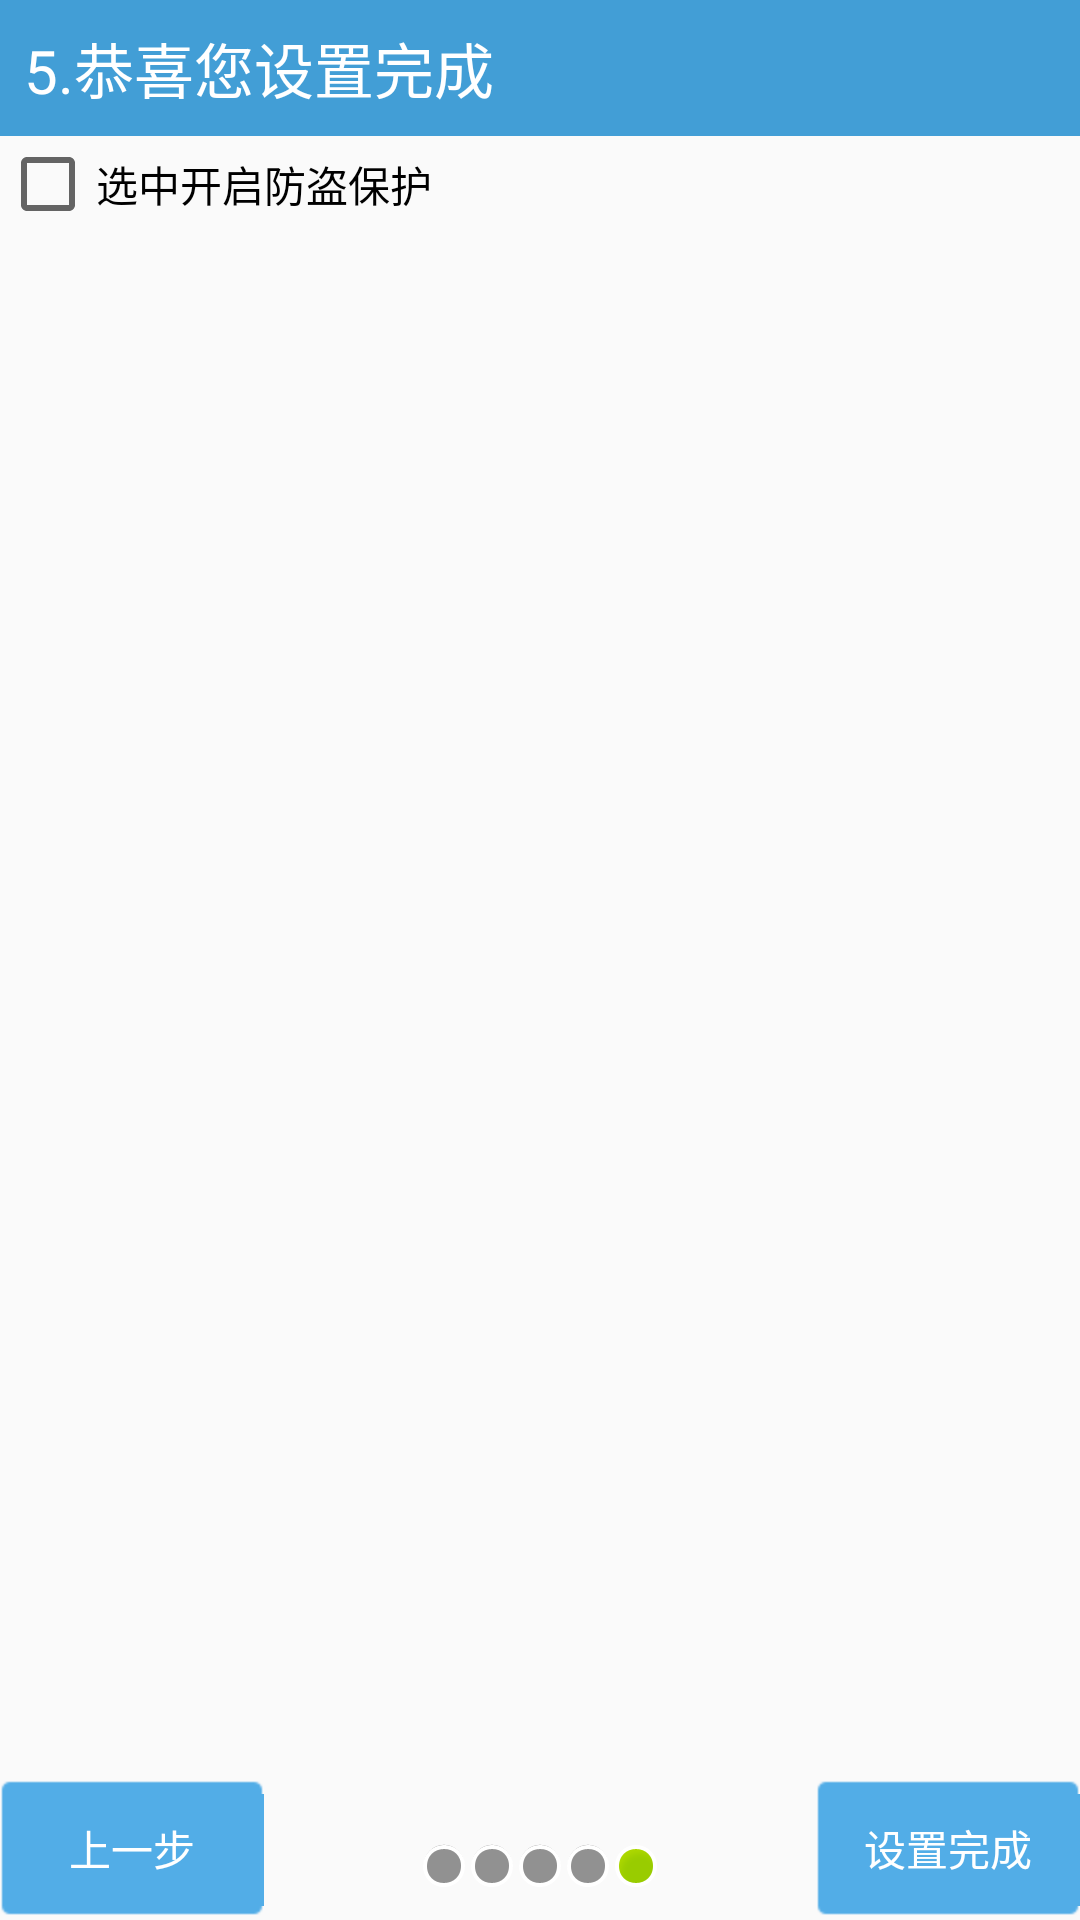

Icon bounding boxes for this 1080w x 1920h phone screenshot, format BBox(x1, y1, x2, y2):
presence invisible: BBox(427, 1845, 461, 1883), BBox(475, 1845, 509, 1883), BBox(523, 1845, 557, 1883), BBox(571, 1845, 605, 1883)
presence online: BBox(619, 1849, 653, 1883)
